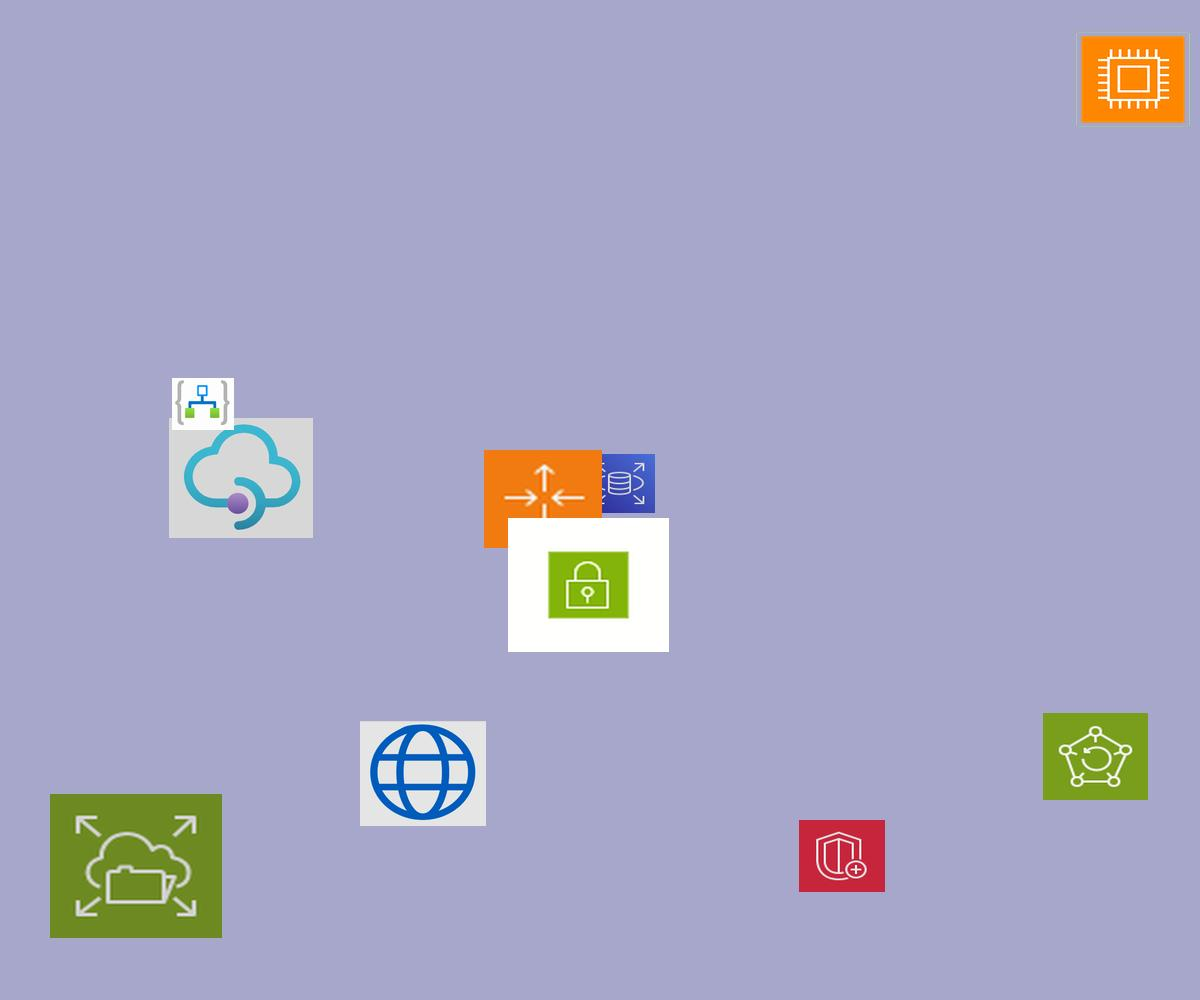AWS-Backup: (1043, 713, 1148, 800)
AWS-Category_Compute: (1075, 31, 1191, 128)
AWS-EFS: (50, 794, 222, 938)
AWS-Public-subnet: (508, 518, 669, 652)
AWS-RDS: (584, 454, 655, 513)
AWS-Scaling-group: (484, 450, 602, 548)
AWS-Shield: (799, 820, 885, 892)
Azure_api_gateway: (169, 418, 313, 538)
Azure_http: (360, 721, 486, 826)
Azure_integration-204-Logic-Apps: (172, 378, 234, 430)
